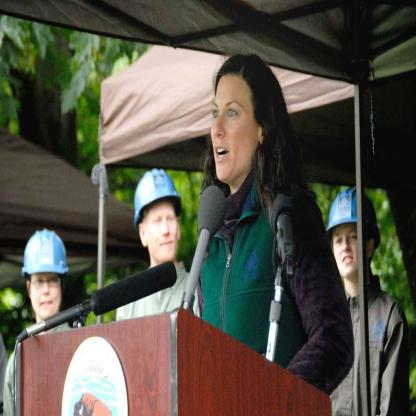Helmet: (326, 184, 384, 256), (132, 167, 182, 224), (22, 228, 72, 284)
